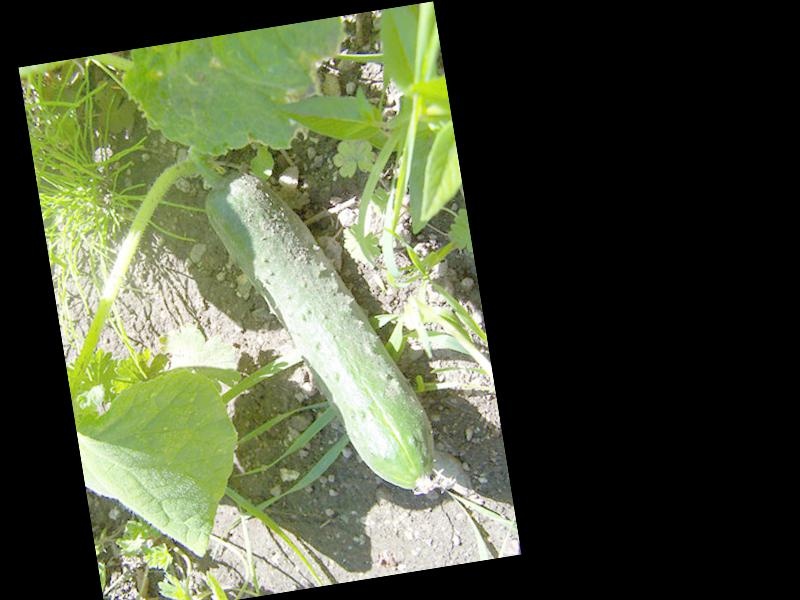Cucumber: (199, 145, 442, 519)
